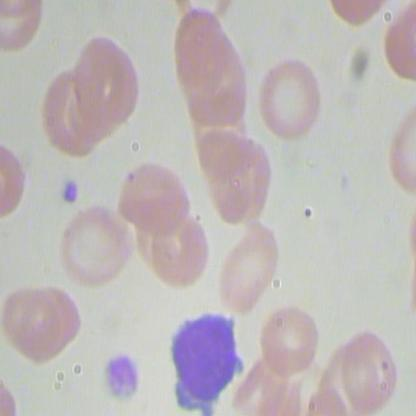Platelets: (104, 346, 140, 406), (53, 175, 80, 211)
RBC: (71, 28, 143, 131), (52, 207, 136, 290), (256, 47, 326, 140), (215, 224, 282, 319), (116, 159, 194, 234), (0, 282, 68, 368), (341, 324, 400, 415), (145, 211, 210, 288), (260, 303, 321, 380)
WBC: (157, 302, 246, 414)
